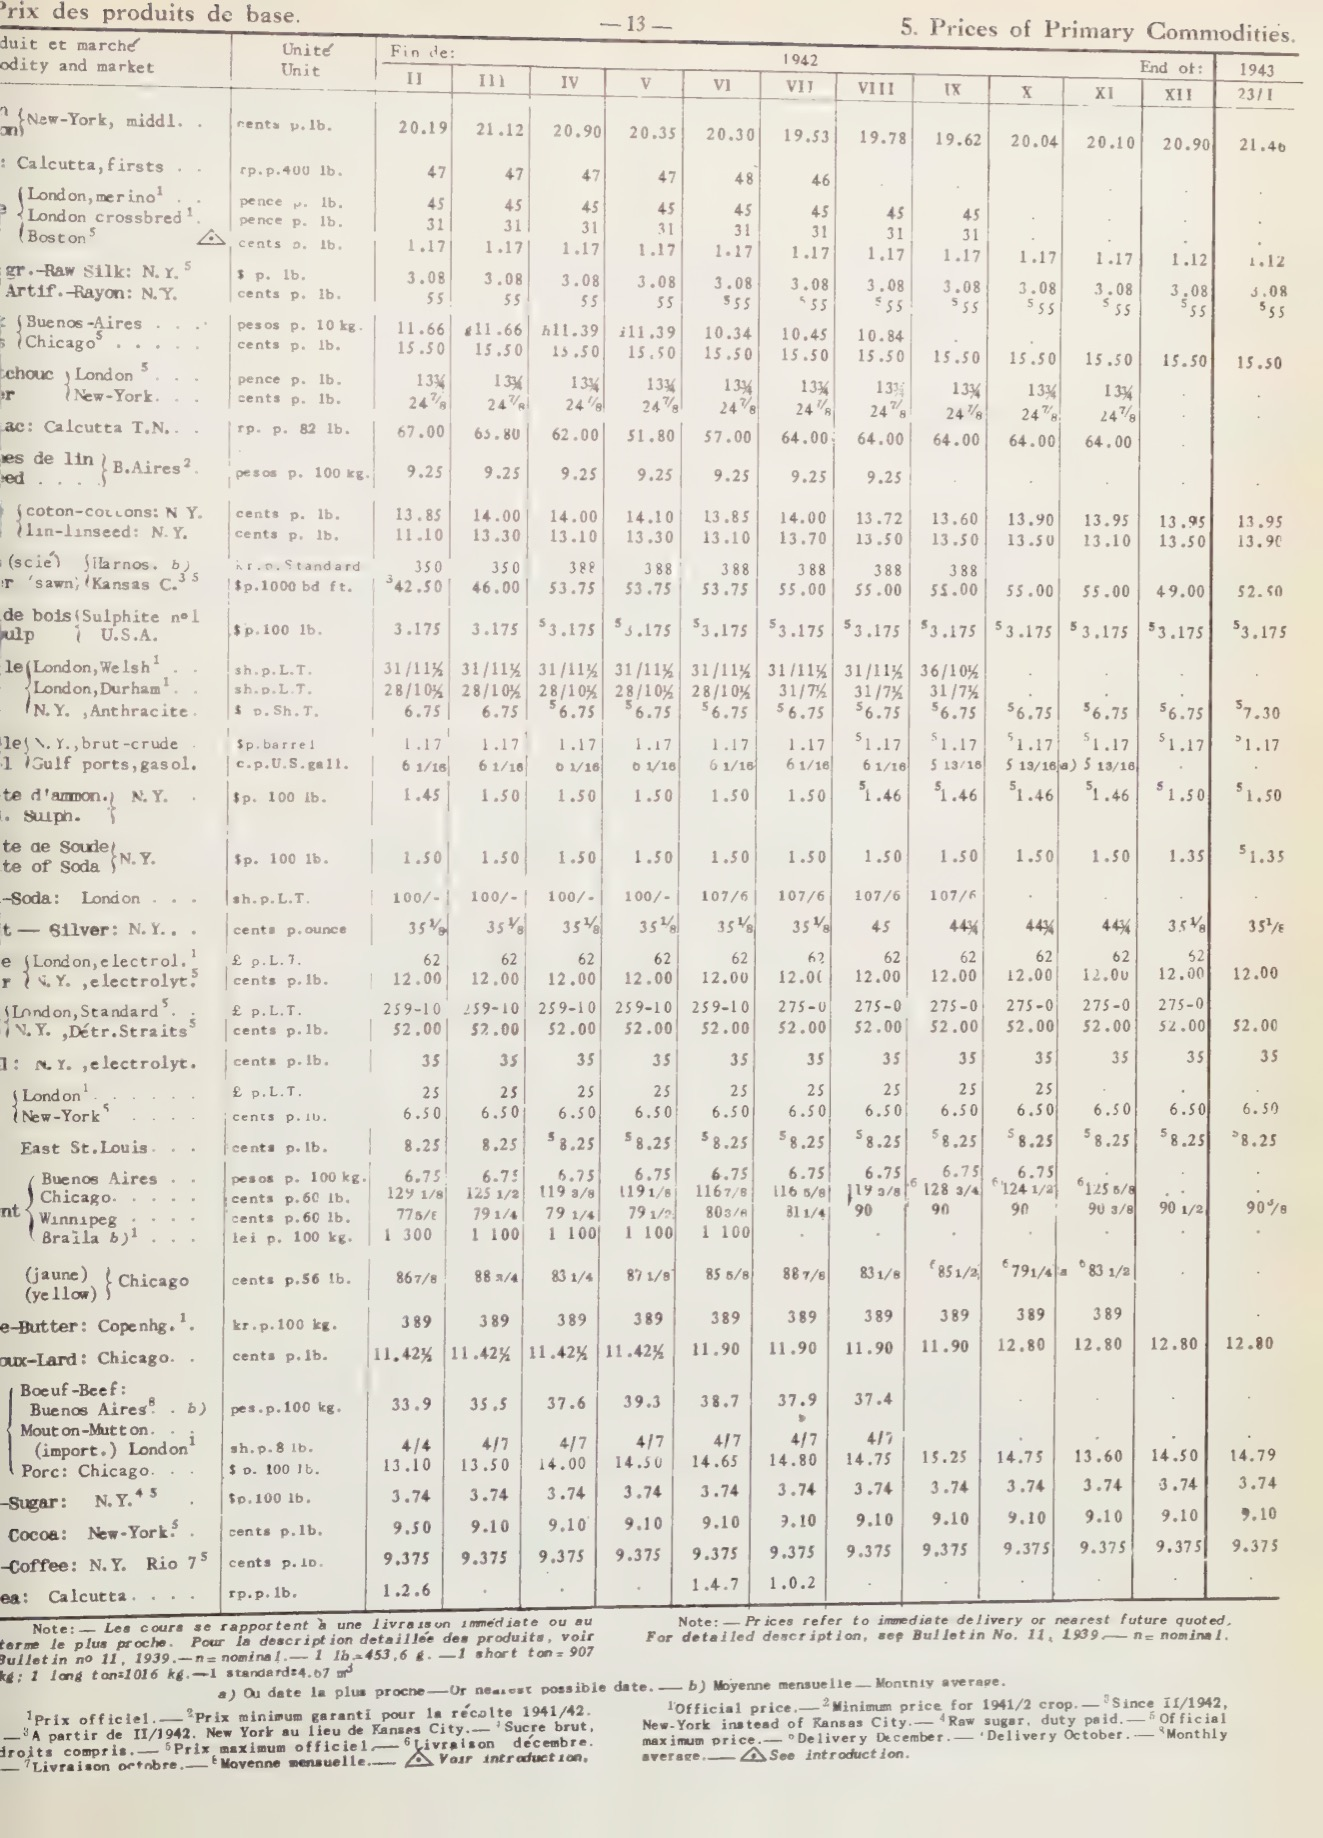MainZone-Head: (901, 13, 1302, 45), (3, 1, 305, 29)
MarginTextZone-Notes: (634, 1695, 1231, 1772), (1, 1614, 601, 1688), (5, 1712, 596, 1776), (211, 1677, 1006, 1707), (644, 1614, 1237, 1649)
NumberingZone: (594, 15, 678, 34)
TableZone: (0, 28, 1310, 1615)
